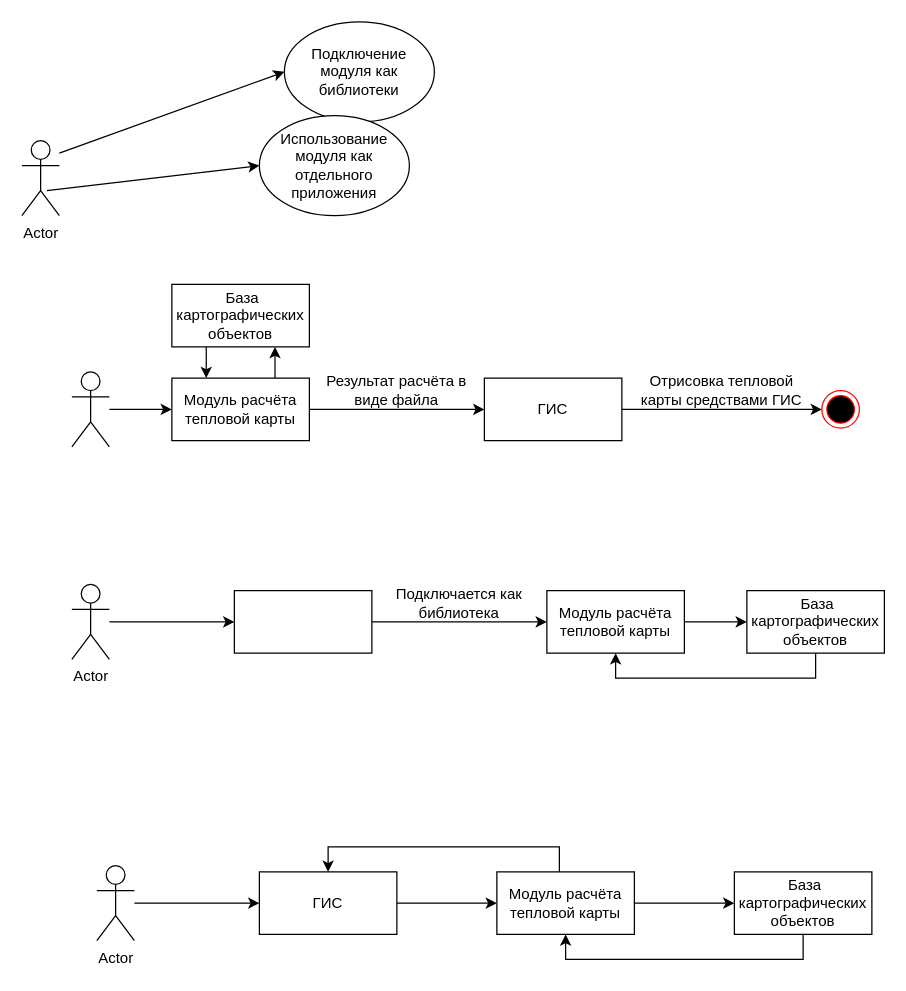
The diagram is 906 pixels wide and 991 high, and some of its shapes have lost their labels. Here are the shapes that lost their labels. From the top down, the box of each, then its label:
(71, 371, 109, 447): Пользователь
(233, 589, 372, 653): Приложение
